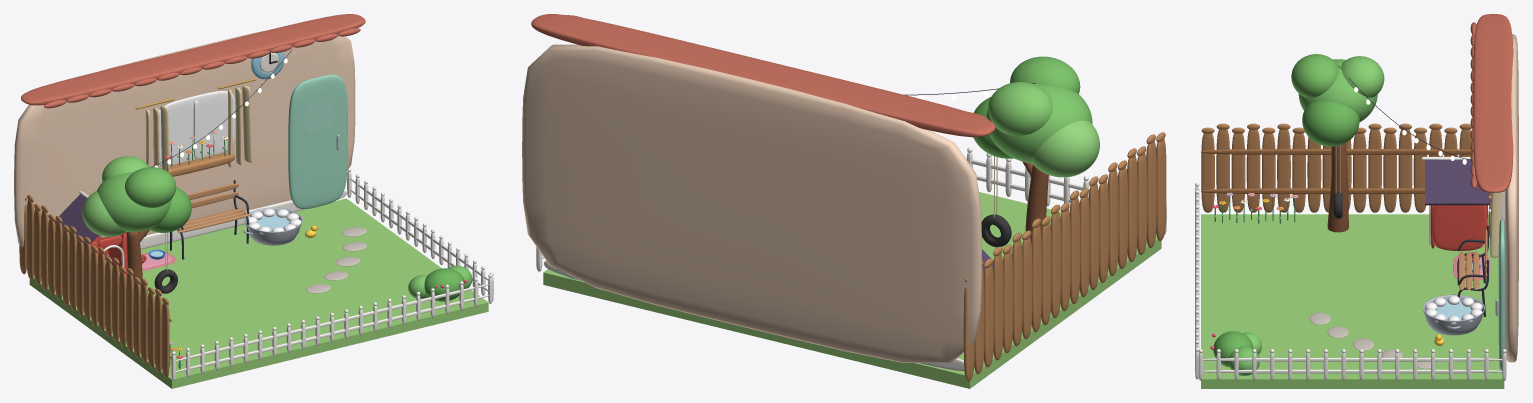
File: casa_patio.glb
3 renders of one model, left to right at view 1: azimuth 30°, elevation 25°; view 2: azimuth 150°, elevation 25°; view 3: azimuth 270°, elevation 25°, orthographic. The views are drawn at different scales.
Visible parts, largest first — view 1: piso, pared fondo, puerta, muro alero, marco, copa árbol, copa árbol.003, zócalo fondo, copa árbol.002, muro riel.001, muro riel, copa árbol.001 (+30 smaller); view 2: pared fondo, muro alero, piso, copa árbol.004, copa árbol.002, copa árbol, copa árbol.003, muro tabla.007, tronco.001, muro tabla.009, muro tabla.005, muro tabla.017 (+19 smaller); view 3: piso, muro alero, pared fondo, techo casita.001, pared casita.001, copa árbol.001, copa árbol.003, muro travesaño.001, copa árbol, tronco.001, copa árbol.004, muro travesaño (+22 smaller).
Part boxes in pixels (x1,y1,x2,y2): piso: (29, 198, 488, 388); pared fondo: (14, 30, 355, 247); puerta: (288, 74, 347, 209); muro alero: (21, 14, 365, 105); marco: (153, 91, 235, 166); copa árbol: (97, 171, 171, 232); copa árbol.003: (125, 167, 176, 207); zócalo fondo: (107, 190, 347, 255); copa árbol.002: (82, 191, 126, 236); muro riel.001: (176, 284, 488, 361); muro riel: (176, 295, 488, 372); copa árbol.001: (149, 187, 191, 232); pared fondo: (522, 44, 981, 362); muro alero: (531, 14, 995, 137); piso: (543, 192, 1161, 388); copa árbol.004: (988, 82, 1052, 135); copa árbol.002: (1031, 120, 1099, 177); copa árbol: (986, 84, 1092, 163); copa árbol.003: (1010, 56, 1080, 93); muro tabla.007: (1088, 183, 1099, 290); tronco.001: (1025, 165, 1048, 240); muro tabla.009: (1069, 197, 1080, 303); muro tabla.005: (1108, 169, 1118, 276); muro tabla.017: (993, 253, 1003, 360); piso: (1201, 214, 1504, 388); muro alero: (1473, 14, 1513, 192); pared fondo: (1504, 34, 1518, 362); techo casita.001: (1425, 159, 1490, 205); pared casita.001: (1432, 205, 1486, 250); copa árbol.001: (1302, 101, 1359, 146); copa árbol.003: (1291, 54, 1338, 98); muro travesaño.001: (1201, 149, 1472, 154); copa árbol: (1298, 59, 1377, 121); tronco.001: (1327, 143, 1348, 232); copa árbol.004: (1341, 56, 1384, 97); muro travesaño: (1201, 188, 1424, 194).
Size of the model in its own units: 5.92 by 3.17 by 4.48.
